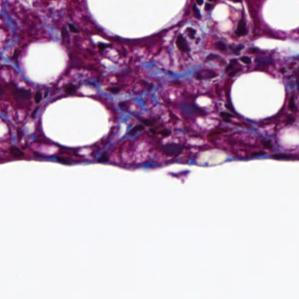inflammation: (213, 39, 261, 76), (172, 23, 206, 57)
